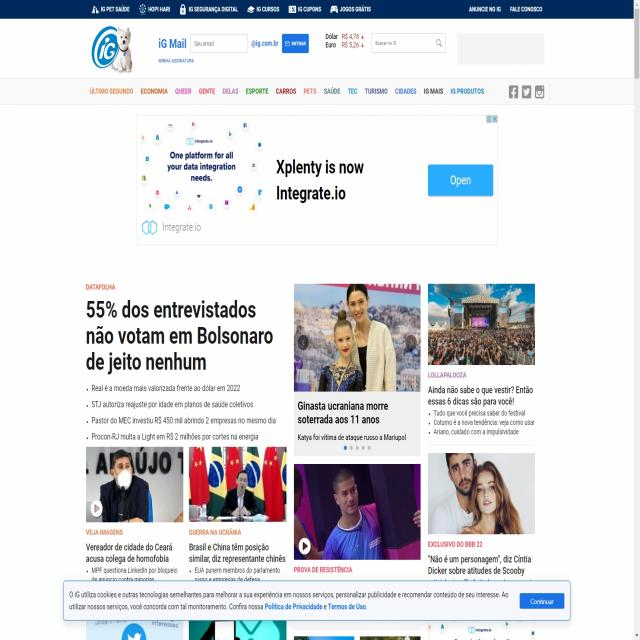menu-bar: (82, 76, 553, 104)
search: (369, 31, 447, 54)
